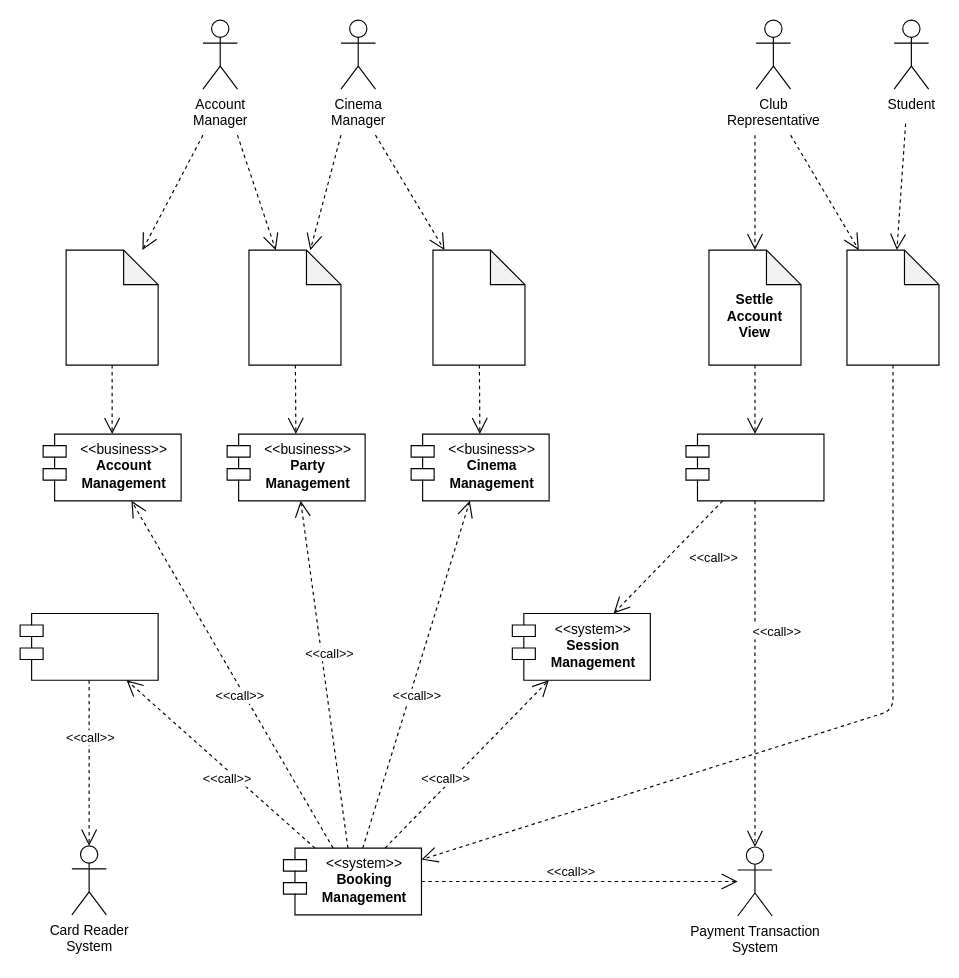
Some shapes in this 959 by 978 pixel diagram are drawn without their labels. Each missing label, with the box of its shape:
<<system>> Account Payment: (685, 433, 824, 501)
<<system>> Virtual Ticketing: (19, 612, 158, 680)
Account Admin View: (65, 249, 158, 365)
Booking View: (846, 249, 939, 365)
Cinema Admin View: (432, 249, 525, 365)
Party View: (248, 249, 341, 365)
